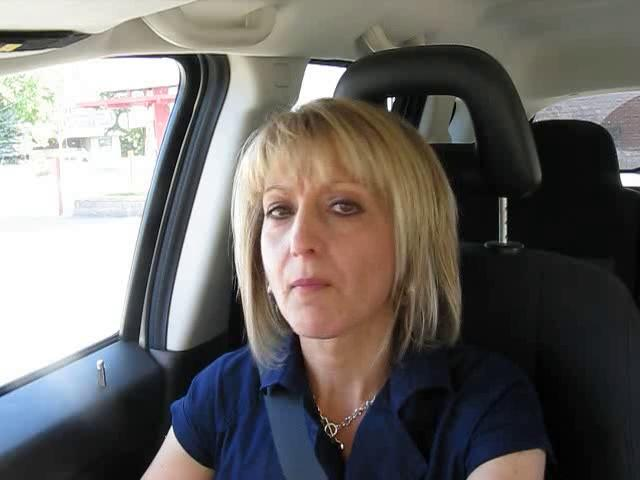no_yawn: (275, 268, 340, 303)
open_eyeL: (257, 194, 306, 229)
open_eyeR: (316, 190, 379, 227)
